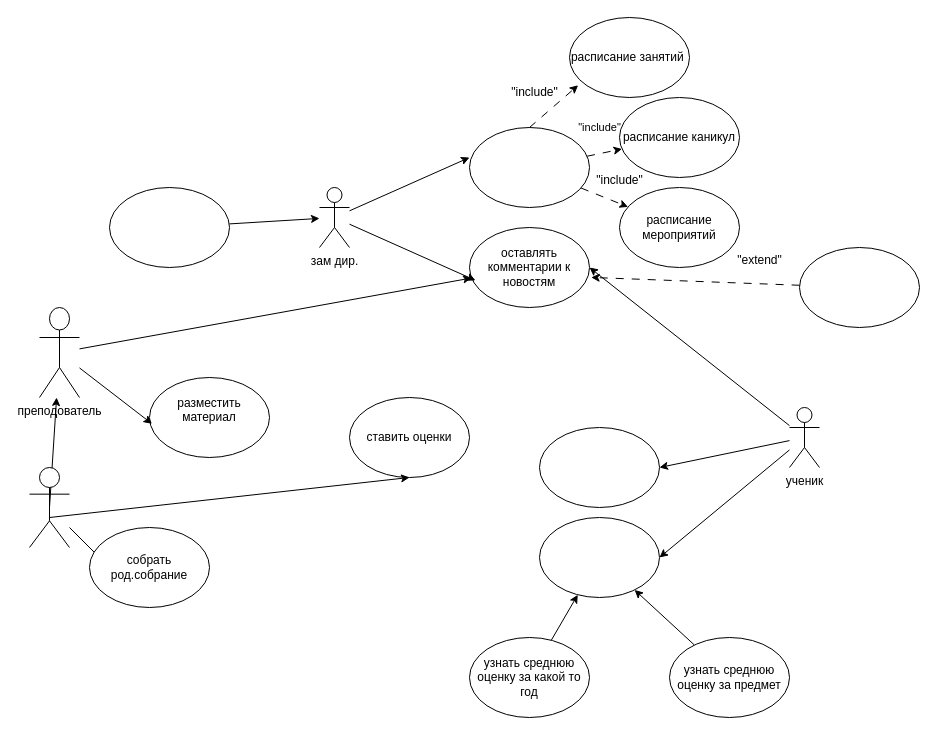
The diagram is 937 pixels wide and 735 high, and some of its shapes have lost their labels. The box of each missing label's shape, as (x1, y1, x2, y2) in pixels:
кл.рук: (28, 466, 70, 548)
опубликовать пост с инфой: (108, 186, 230, 268)
прикрепление файла к комментариям: (798, 246, 920, 328)
составить распис.: (468, 126, 590, 208)
узнать оценки: (538, 426, 660, 508)
узнать расписание: (538, 516, 660, 598)
